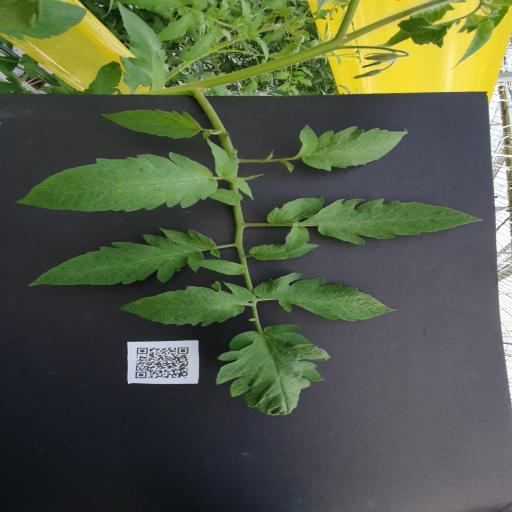Healthy: (267, 194, 483, 254), (16, 151, 219, 212), (27, 228, 221, 286), (213, 324, 331, 415), (254, 272, 400, 322), (116, 281, 256, 327), (296, 125, 408, 172), (115, 0, 168, 65), (101, 108, 201, 140), (206, 139, 239, 178), (248, 242, 319, 260), (184, 260, 246, 275)
